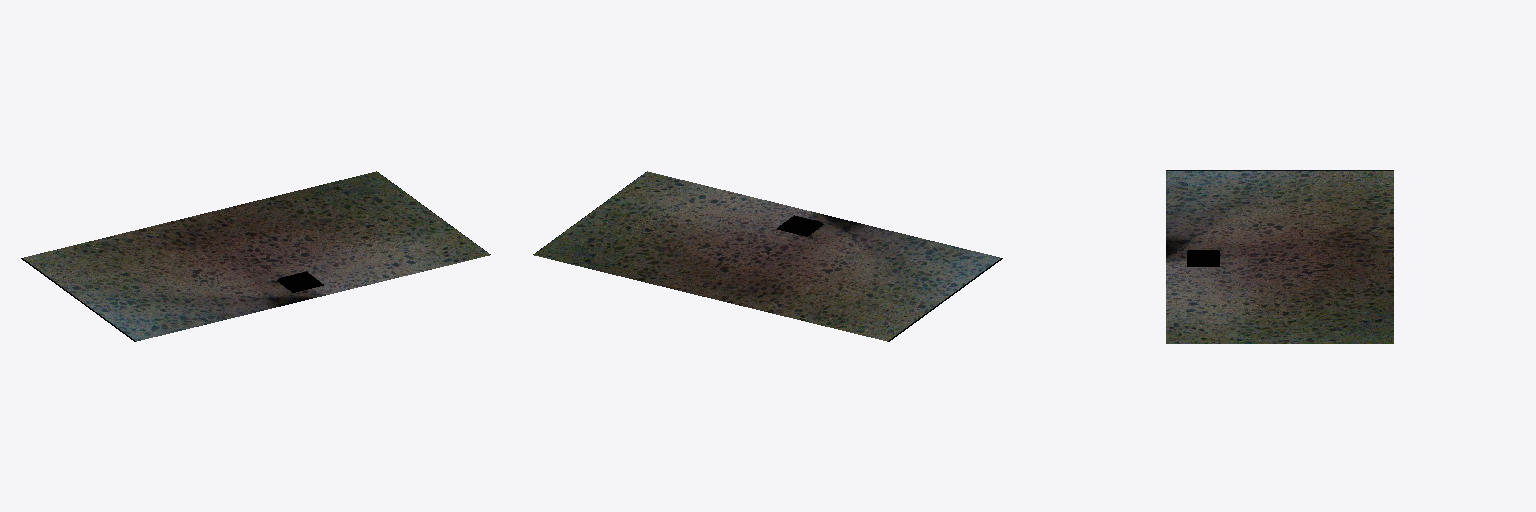
3 renders of one model, left to right at view 1: azimuth 30°, elevation 25°; view 2: azimuth 150°, elevation 25°; view 3: azimuth 270°, elevation 25°, orthographic.
Parts seen in each view (by area): view 1: backframe, Lid; view 2: backframe, Lid; view 3: backframe, Lid.
Part boxes in pixels (left/top/right/bottom): backframe: left=21, top=171, right=490, bottom=341; Lid: left=277, top=271, right=323, bottom=292; backframe: left=533, top=171, right=1002, bottom=341; Lid: left=777, top=215, right=823, bottom=236; backframe: left=1166, top=170, right=1393, bottom=343; Lid: left=1187, top=250, right=1219, bottom=266.
Size of the model in its own units: 124 by 1.58 by 69.12.
Materials: 2 (1 with a texture image).